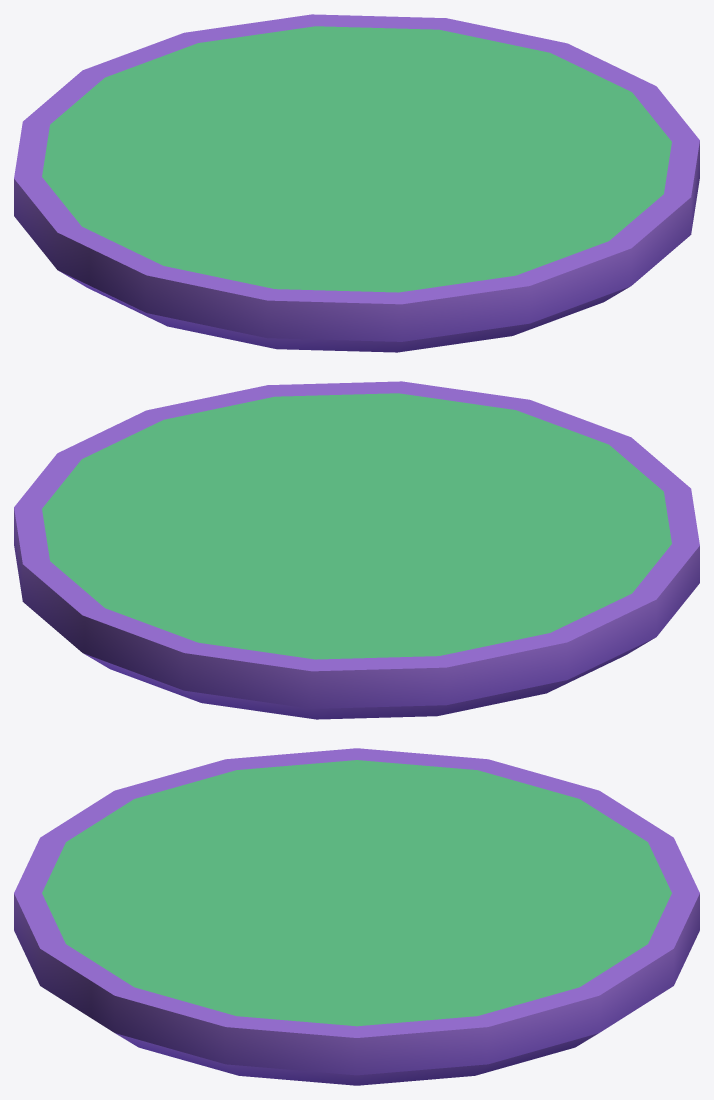
File: PlatformGrass.fbx
3 renders of one model, top to bottom at view 1: azimuth 30°, elevation 25°; view 2: azimuth 150°, elevation 25°; view 3: azimuth 270°, elevation 25°, orthographic.
Parts seen in each view (by area): view 1: platform-grass-large-round; view 2: platform-grass-large-round; view 3: platform-grass-large-round.
Part boxes in pixels (<box>): platform-grass-large-round: <box>14,14,699,352</box>; platform-grass-large-round: <box>14,381,699,719</box>; platform-grass-large-round: <box>14,748,699,1085</box>.
Bounding box in the file's own units: 500 × 50 × 500.
